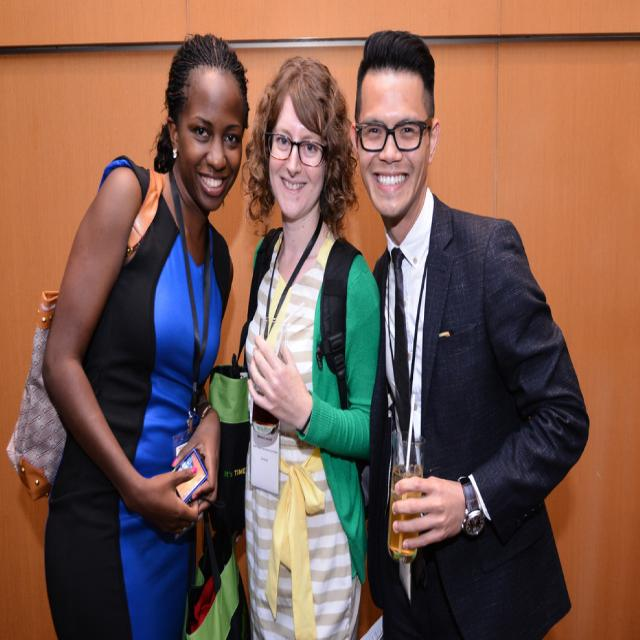Glasses: (260, 129, 330, 170), (354, 119, 433, 155)
